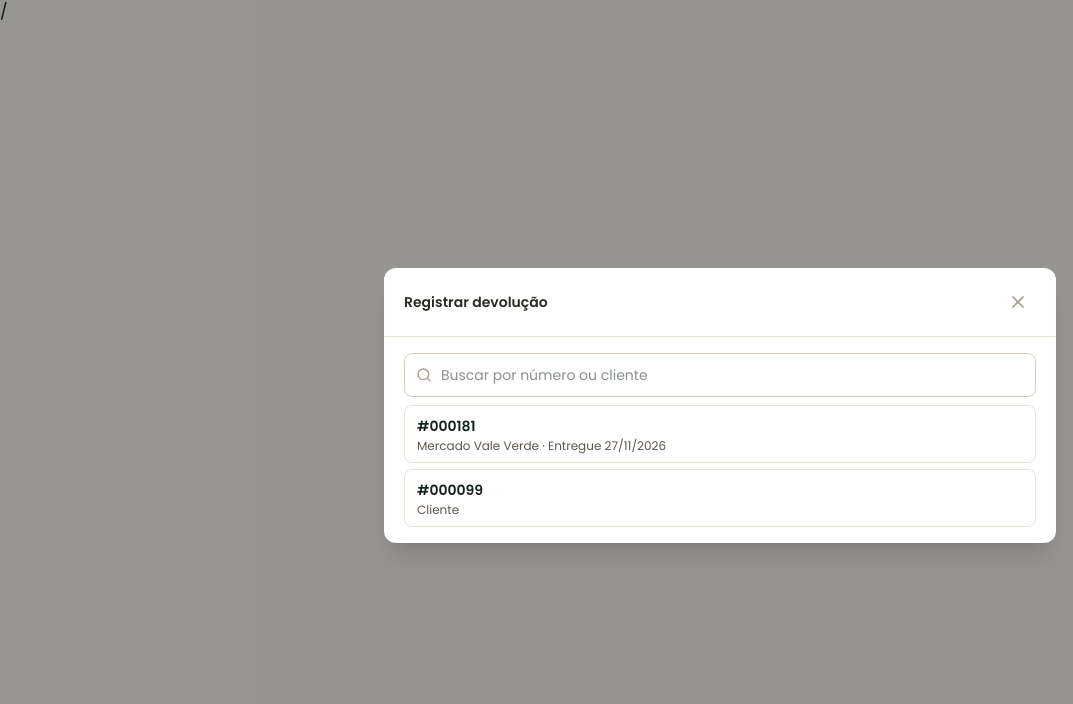
Registrar devolução › administrador registra sem fotos, validando motivos
Earlier steps of the test are not shown.
Later steps or results of the test are not shown.
Click the button "#000181 Mercado Vale Verde · Entregue 27/11/2026". click: (453,426)
box: [404,404,1036,462]
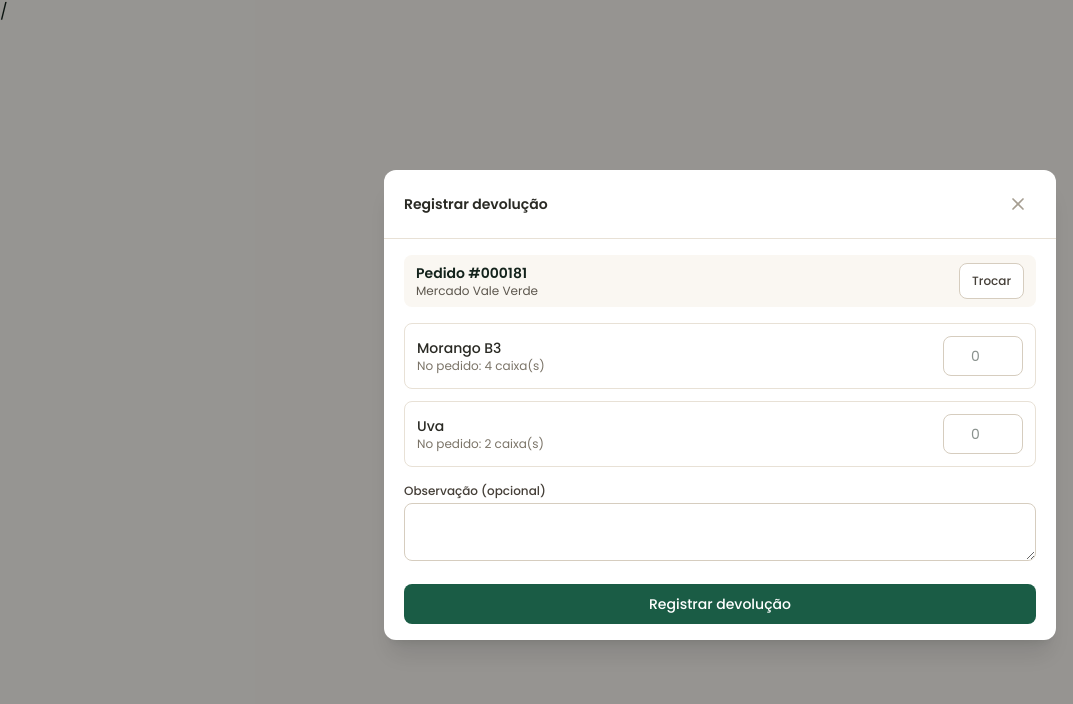
Click the button "Registrar devolução". click: (720,604)
box: [404,584,1036,624]
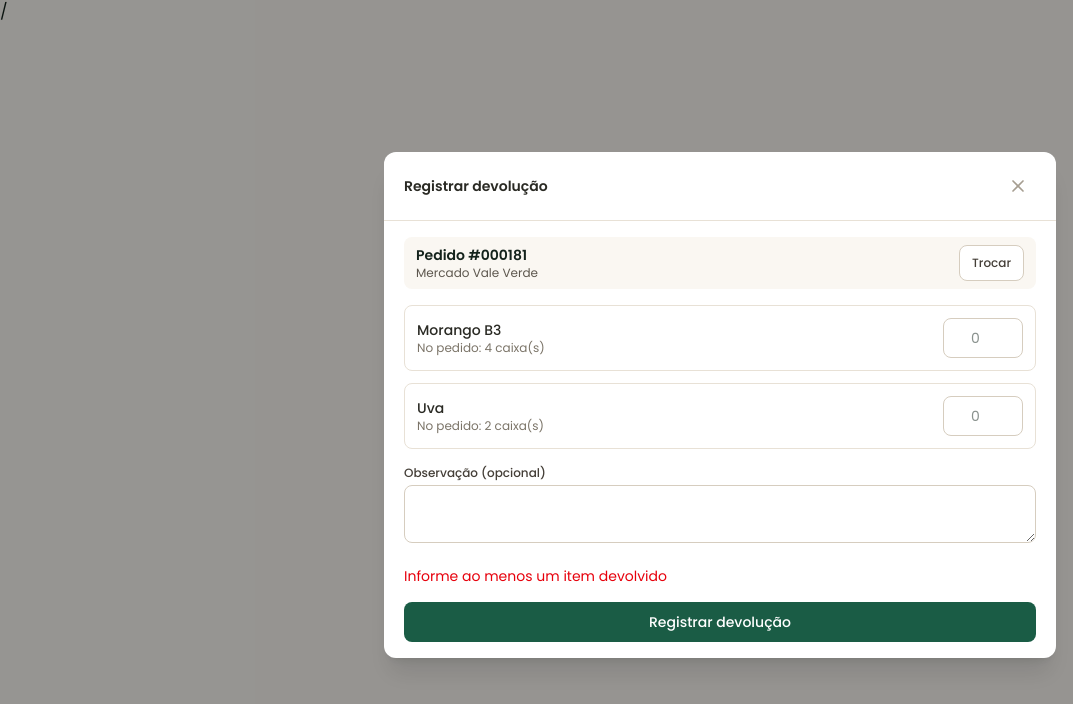
Expected: the text "Informe ao menos um item devolvido" is shown, [404,566,667,586]
Type "2" into the number field named "Caixas devolvidas de Morango B3". click: (983,338)
box: [943,318,1023,358]
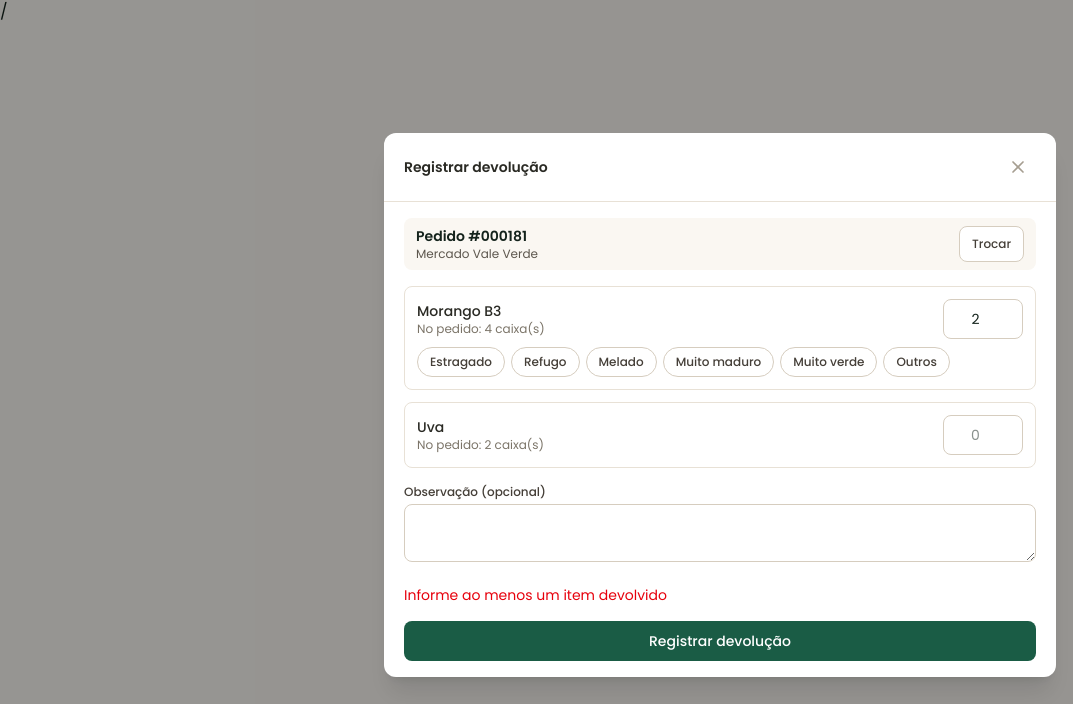
Click the button "Registrar devolução". click: (720,641)
box: [404,621,1036,661]
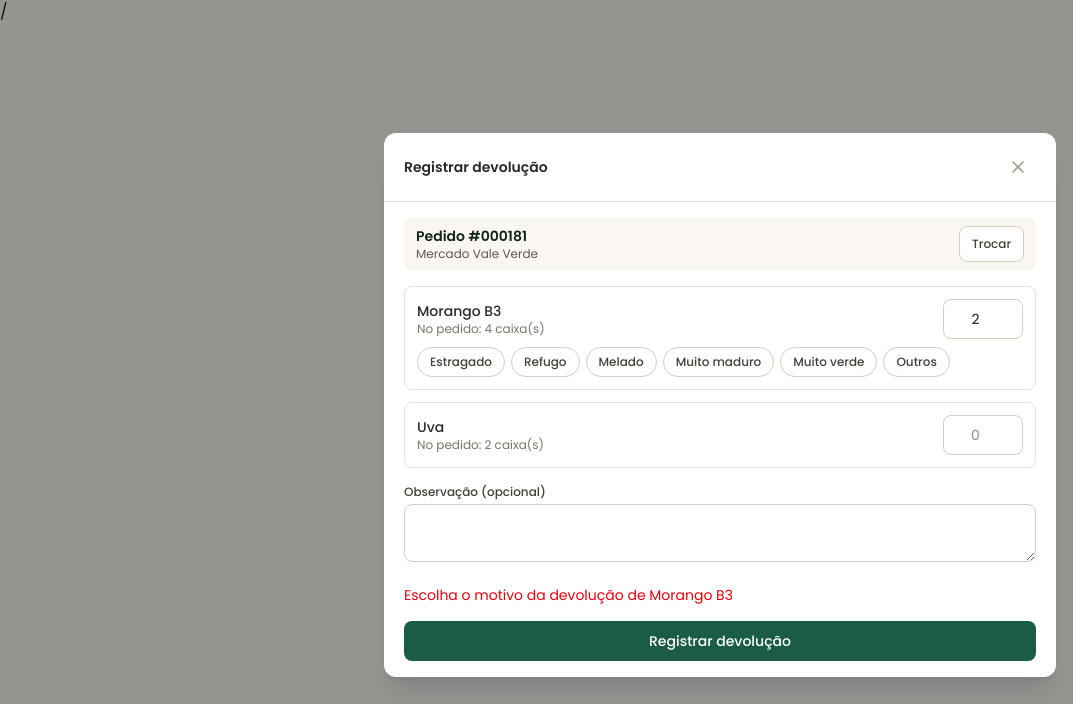
Expected: the text "Escolha o motivo da devolução de Morango B3" is shown, [404,585,733,605]
